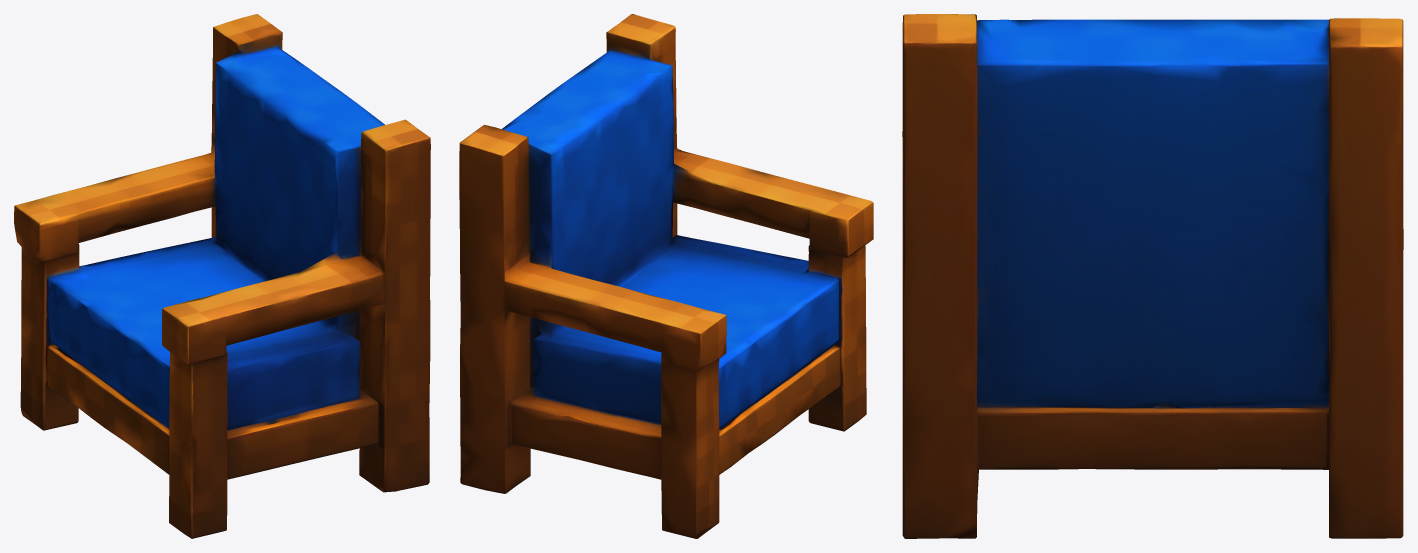
Rendered from throne.glb.
The picture shows the model from 3 angles, left to right: view 1: azimuth 30°, elevation 25°; view 2: azimuth 150°, elevation 25°; view 3: azimuth 270°, elevation 25°; orthographic projection. The views are drawn at different scales.
Visible parts, largest first — view 1: tripo_node_b4093620-9406-45c8-98d5-ed069e2b754c; view 2: tripo_node_b4093620-9406-45c8-98d5-ed069e2b754c; view 3: tripo_node_b4093620-9406-45c8-98d5-ed069e2b754c.
Boxes of the visible parts, left/top/right/bottom form: tripo_node_b4093620-9406-45c8-98d5-ed069e2b754c: left=14, top=14, right=430, bottom=538; tripo_node_b4093620-9406-45c8-98d5-ed069e2b754c: left=459, top=14, right=873, bottom=538; tripo_node_b4093620-9406-45c8-98d5-ed069e2b754c: left=902, top=14, right=1403, bottom=538.
Bounding box in the file's own units: 0.7375 × 1 × 0.9102.
Materials: 1 (1 with a texture image).
